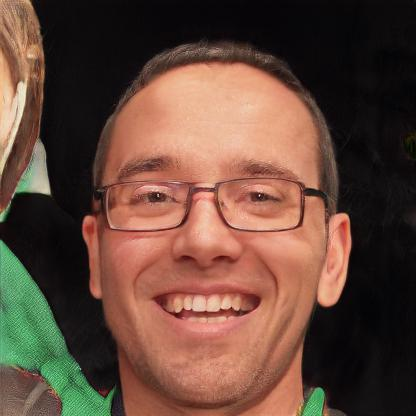glasses: (95, 172, 319, 236)
